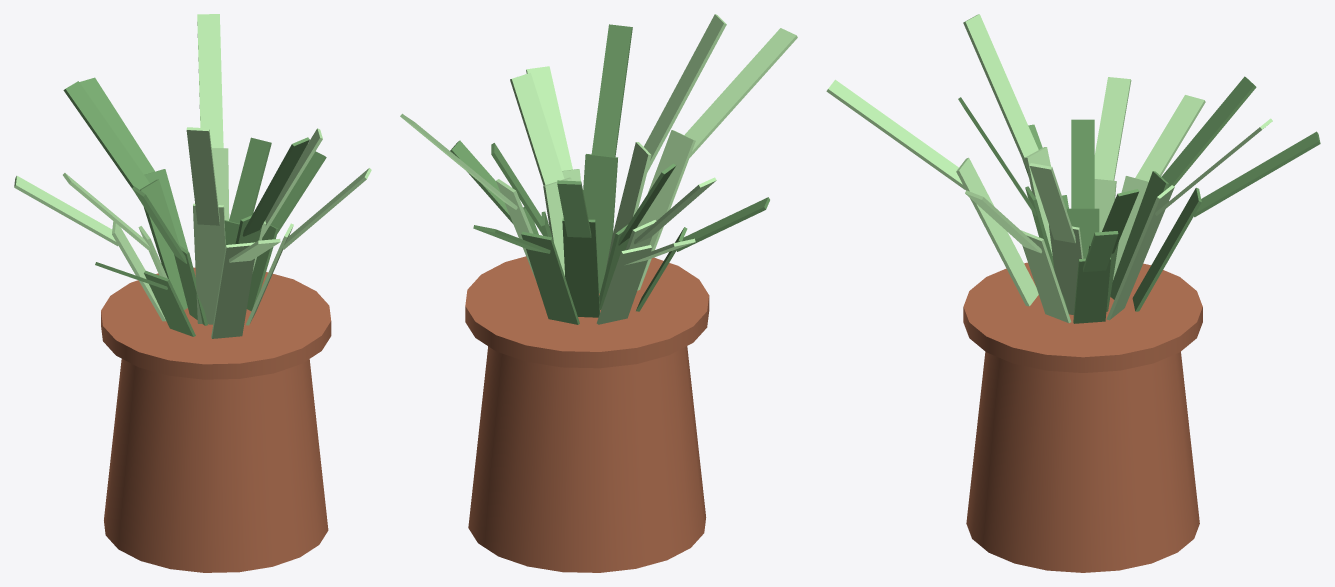
The model's file is planta.obj.
3 views of the same model, side by side, from view 1: azimuth 30°, elevation 25°; view 2: azimuth 150°, elevation 25°; view 3: azimuth 270°, elevation 25° (orthographic). The views are drawn at different scales.
Visible parts, largest first — view 1: planta; view 2: planta; view 3: planta.
Boxes of the visible parts, <box> form: planta: <box>14,14,371,572</box>; planta: <box>400,14,797,572</box>; planta: <box>826,14,1320,572</box>.
Size of the model in its own units: 0.5495 by 0.8877 by 0.8466.
